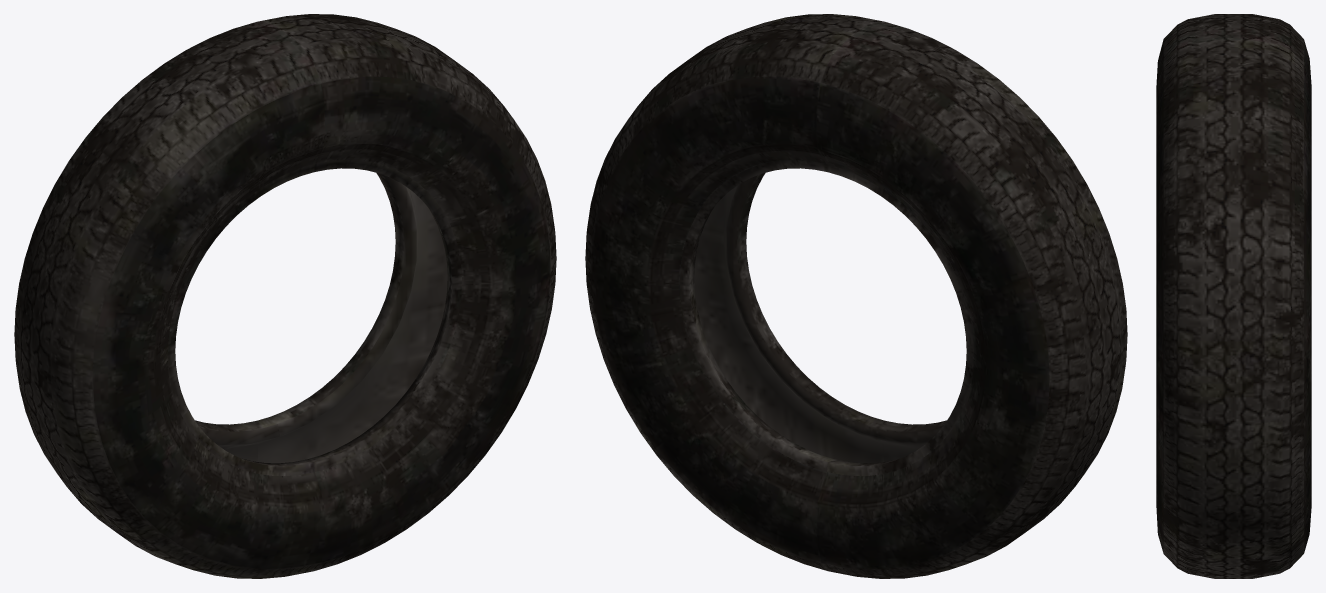
The model's file is neumatico_viejo.glb.
3 views of the same model, side by side, from view 1: azimuth 30°, elevation 25°; view 2: azimuth 150°, elevation 25°; view 3: azimuth 270°, elevation 25° (orthographic). The views are drawn at different scales.
Parts seen in each view (by area): view 1: old_tyre_1k(Clone); view 2: old_tyre_1k(Clone); view 3: old_tyre_1k(Clone).
Boxes of the visible parts, x1,y1,x2,y2 form: old_tyre_1k(Clone): [14, 14, 556, 578]; old_tyre_1k(Clone): [585, 14, 1127, 578]; old_tyre_1k(Clone): [1156, 14, 1311, 578].
Bounding box in the file's own units: 0.6 × 0.6 × 0.165.
1 material, 1 textured.
